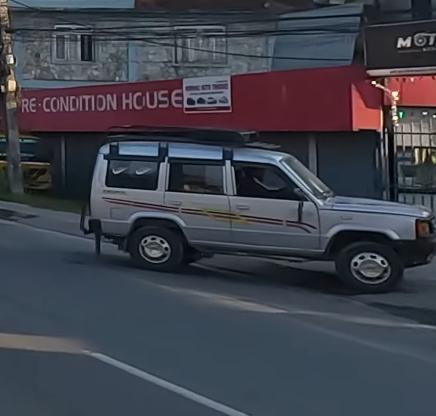SUV: (75, 119, 436, 299)
